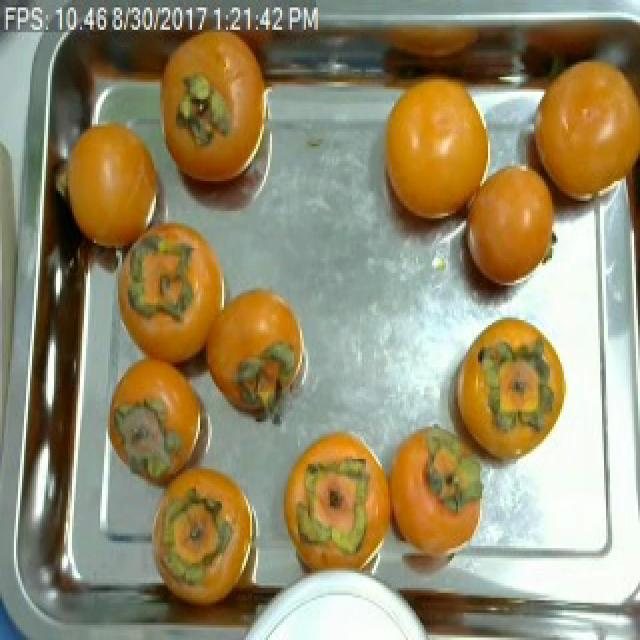Fruit: (160, 10, 310, 218), (368, 62, 502, 243), (516, 42, 640, 236), (268, 422, 404, 590), (438, 308, 574, 467), (100, 342, 230, 503), (190, 270, 316, 434), (448, 146, 568, 303), (122, 206, 240, 360), (56, 104, 162, 268)
